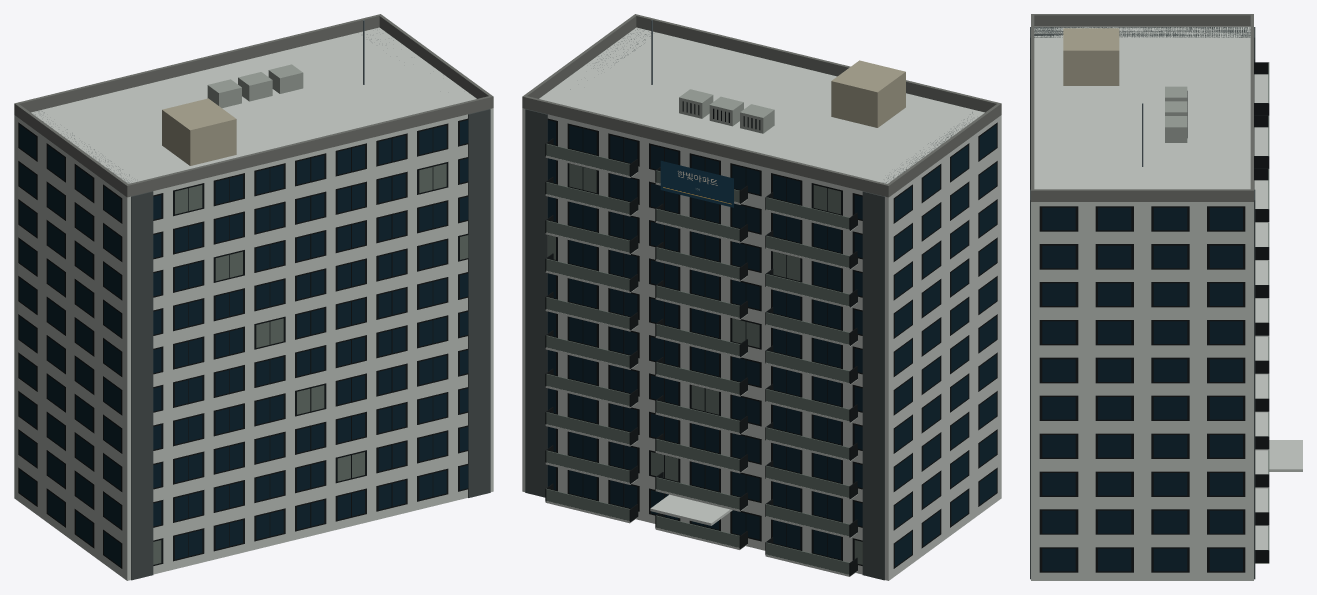
The model's file is apartment_slab.obj.
3 renders of one model, left to right at view 1: azimuth 30°, elevation 25°; view 2: azimuth 150°, elevation 25°; view 3: azimuth 270°, elevation 25°, orthographic.
Parts seen in each view (by area): view 1: Apartment_White, Window_Glass, Dark_Frame, Paver_Accent, Concrete, Window_Light, Warm_Plaster, AC_White; view 2: Apartment_White, Window_Glass, Window_Light, Dark_Frame, Paver_Accent, Concrete, Warm_Plaster, AC_White, Sign_Atlas; view 3: Apartment_White, Window_Glass, Dark_Frame, Concrete, Warm_Plaster, Paver_Accent, AC_White, Window_Light.
Part boxes in pixels (x1,y1,x2,y2): Apartment_White: (14,27,493,580); Window_Glass: (19,120,468,566); Dark_Frame: (18,118,468,568); Paver_Accent: (35,34,490,580); Concrete: (14,14,493,197); Window_Light: (153,163,468,564); Warm_Plaster: (162,98,236,165); AC_White: (207,64,303,108); Apartment_White: (522,27,1001,580); Window_Glass: (547,120,996,566); Window_Light: (546,143,862,574); Dark_Frame: (545,101,997,575); Paver_Accent: (525,29,972,580); Concrete: (522,14,1001,197); Warm_Plaster: (831,60,905,127); AC_White: (679,89,774,133); Sign_Atlas: (660,160,733,207); Apartment_White: (1031,26,1302,580); Window_Glass: (1042,207,1242,571); Dark_Frame: (1030,59,1269,572); Concrete: (1031,14,1253,201); Warm_Plaster: (1063,28,1119,85); Paver_Accent: (1030,27,1255,579); AC_White: (1165,86,1187,142); Window_Light: (1268,62,1269,550).
Bounding box in the file's own units: 30.09 × 35 × 19.57.
